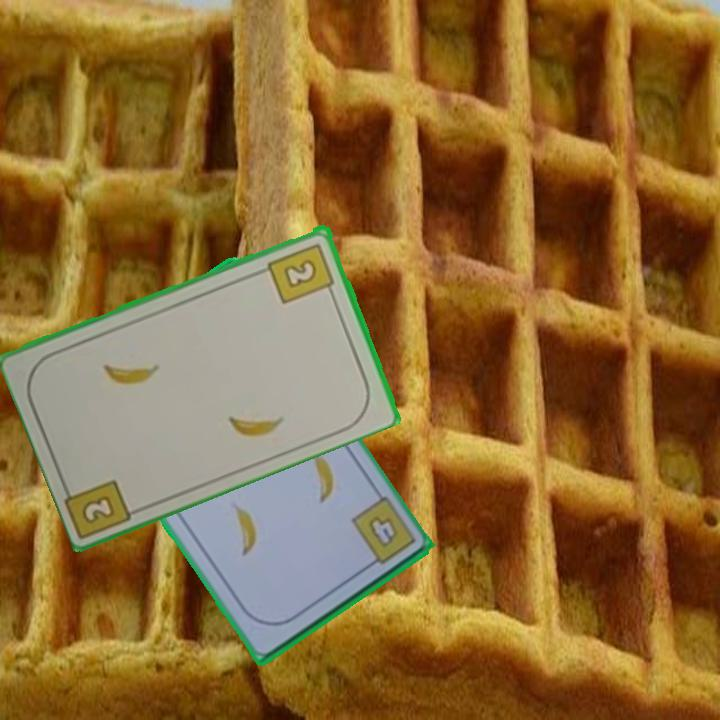2b: (264, 239, 338, 306), (78, 491, 119, 527)
4b: (347, 493, 419, 572)
